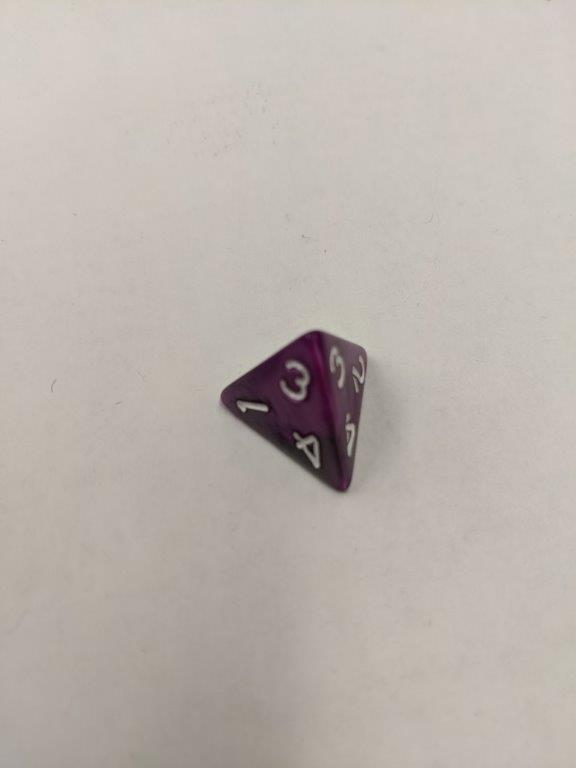d4-3: (216, 328, 375, 498)
